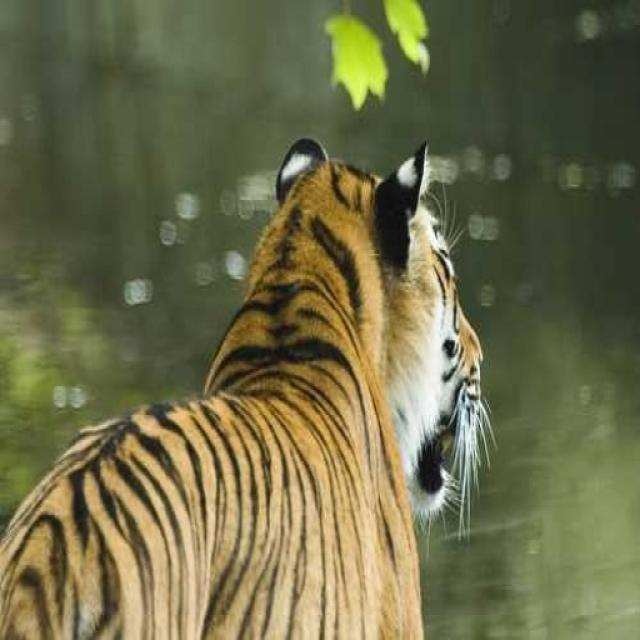tiger: (0, 135, 498, 639)
